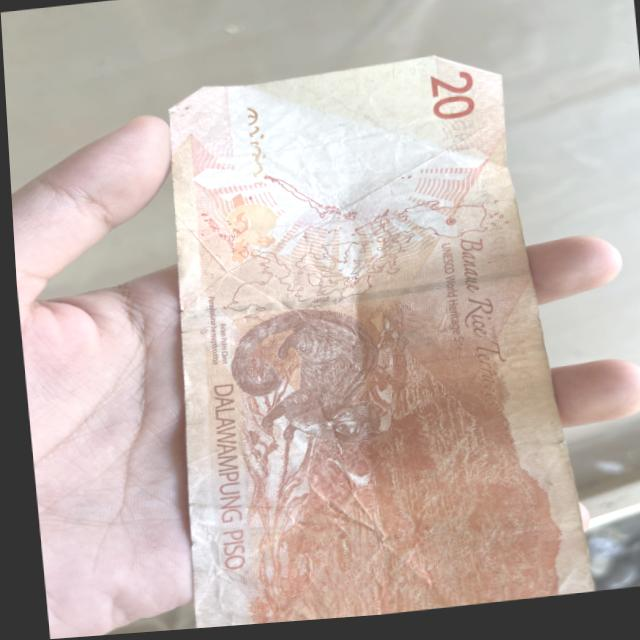20_civet: (224, 297, 386, 469)
20_civet_watermark: (222, 196, 281, 268)
